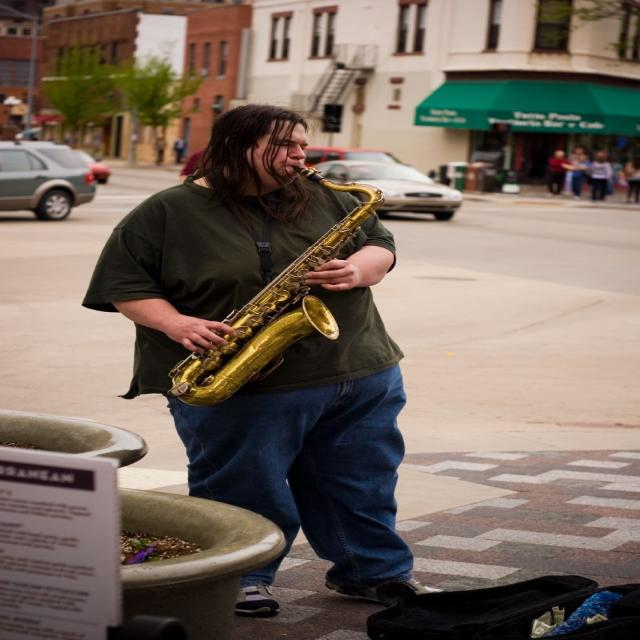saxophone: (166, 164, 389, 409)
